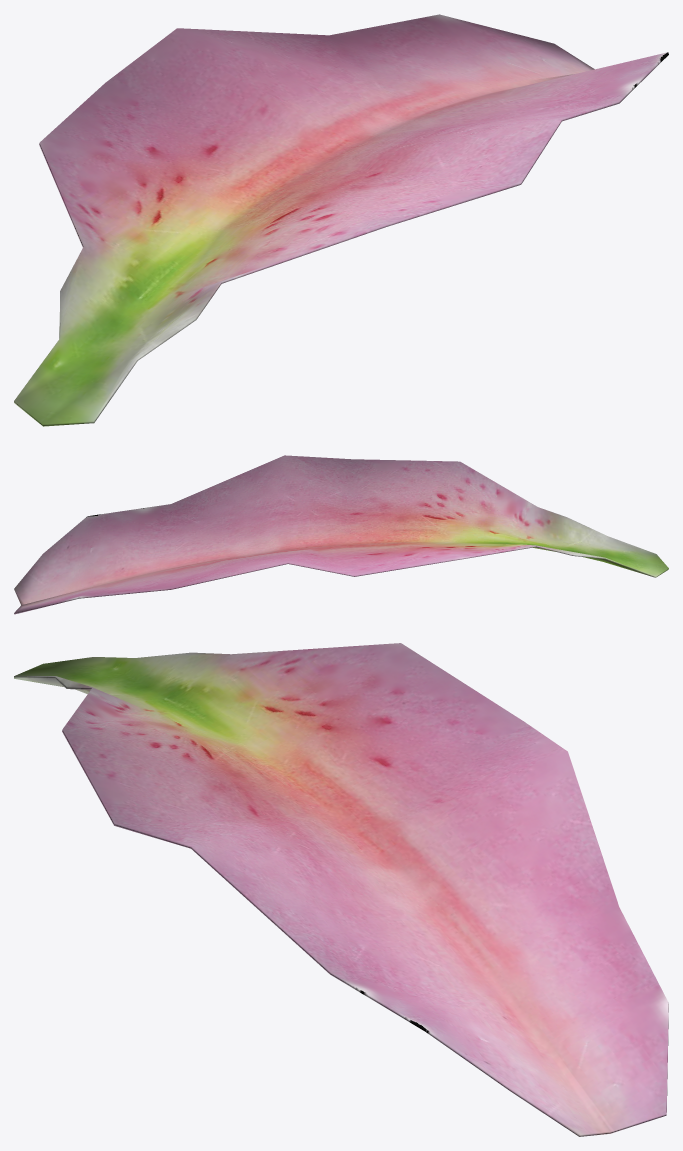
The model's file is Lily_PetalA_3.gltf.
The picture shows the model from 3 angles, top to bottom: view 1: azimuth 30°, elevation 25°; view 2: azimuth 150°, elevation 25°; view 3: azimuth 270°, elevation 25°; orthographic projection. The views are drawn at different scales.
Visible parts, largest first — view 1: PetalA.003; view 2: PetalA.003; view 3: PetalA.003.
Part boxes in pixels (x1,y1,x2,y2): PetalA.003: [14, 14, 668, 426]; PetalA.003: [14, 455, 668, 614]; PetalA.003: [14, 643, 668, 1136].
Bounding box in the file's own units: 3.78 × 0.7102 × 2.47.
1 material, 1 textured.
